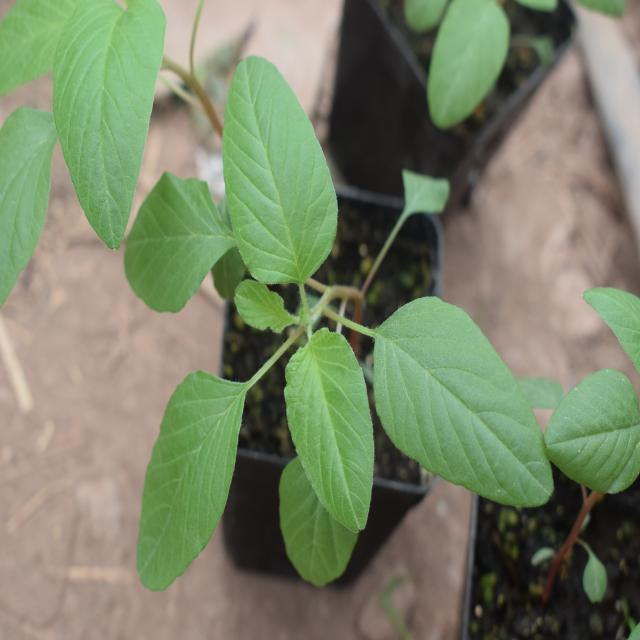pigweed: (138, 69, 556, 578)
